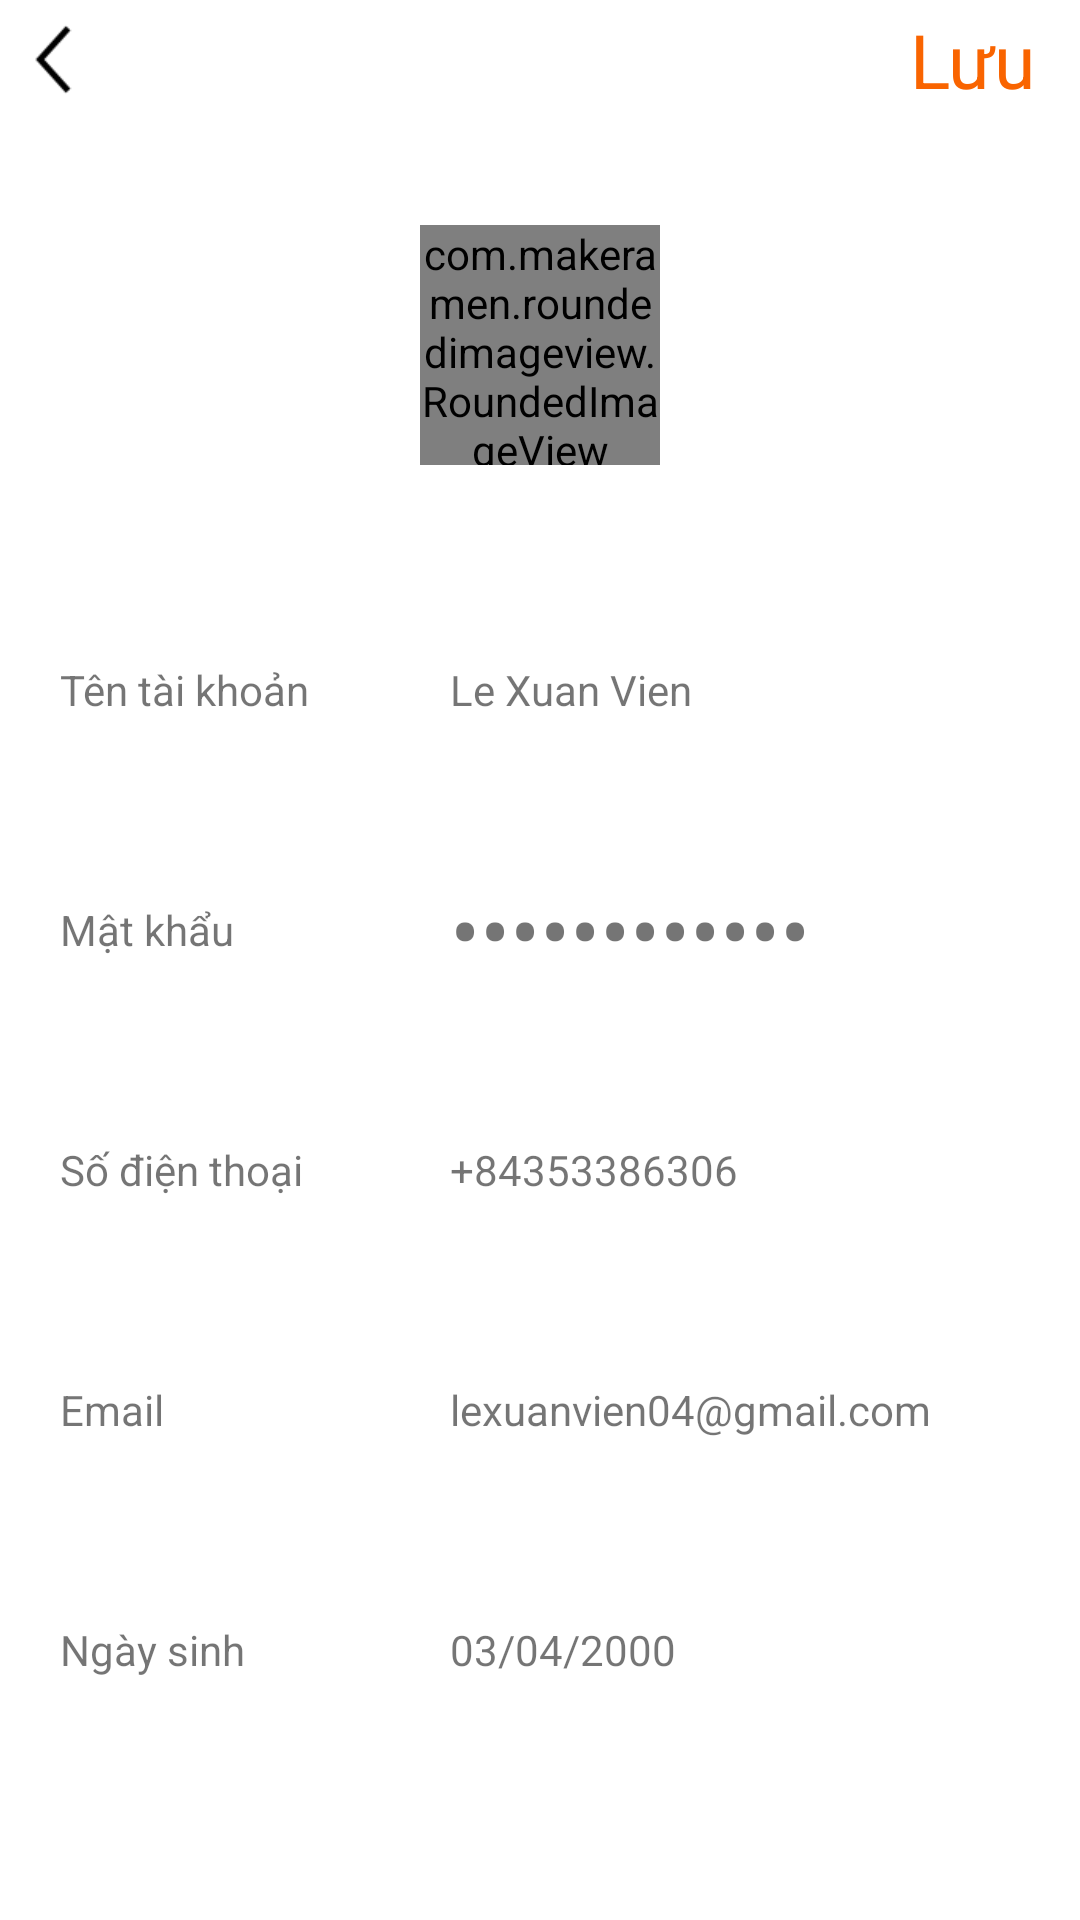

Named icons in this screenshot (1080 x 1920) and their centers, (x=x, y=y):
back: (x=53, y=59)
